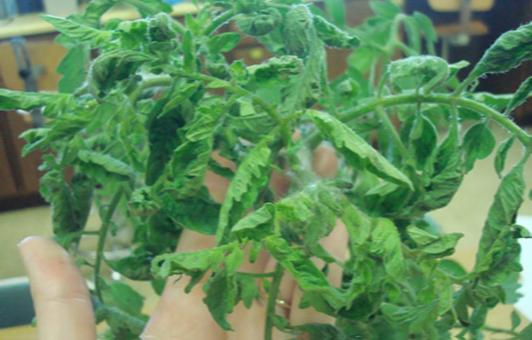Tomato leaf mosaic virus: (299, 107, 410, 191), (218, 126, 285, 246), (262, 239, 337, 297), (168, 117, 214, 204), (458, 124, 500, 177), (309, 18, 362, 55)
